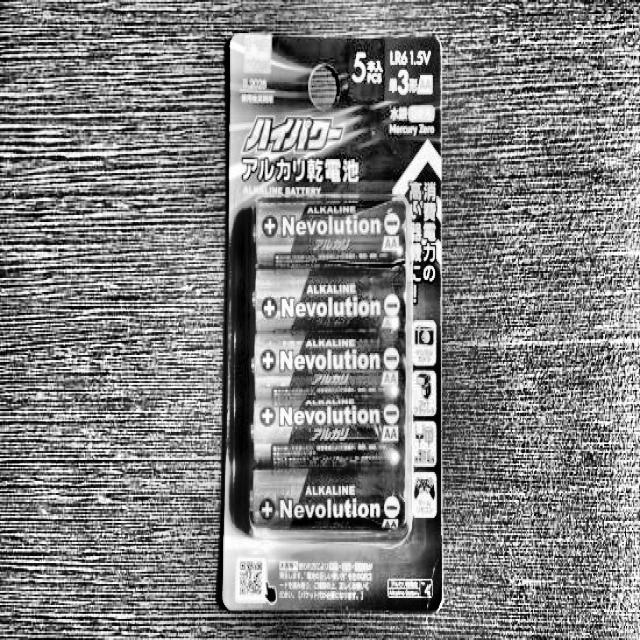drycell: (248, 331, 410, 402), (253, 191, 410, 262), (250, 266, 414, 333), (250, 464, 406, 531), (248, 401, 408, 466)
